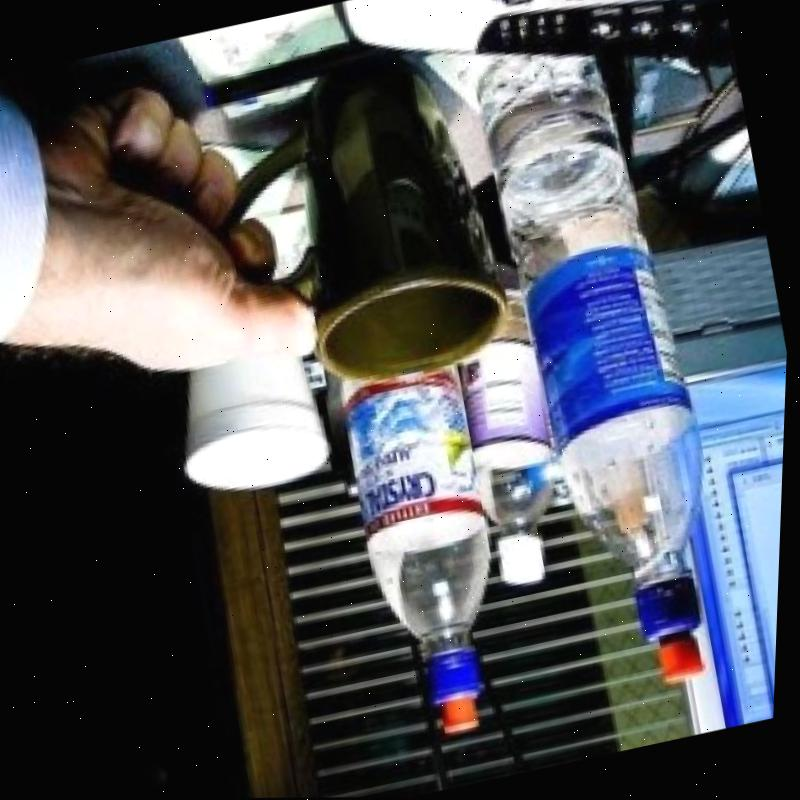botella: (447, 23, 757, 702), (319, 324, 541, 748), (432, 247, 588, 587)
